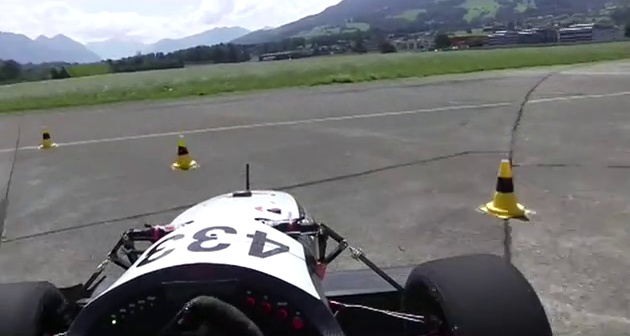Cone: (478, 157, 531, 216), (168, 131, 201, 173), (37, 122, 59, 150)
